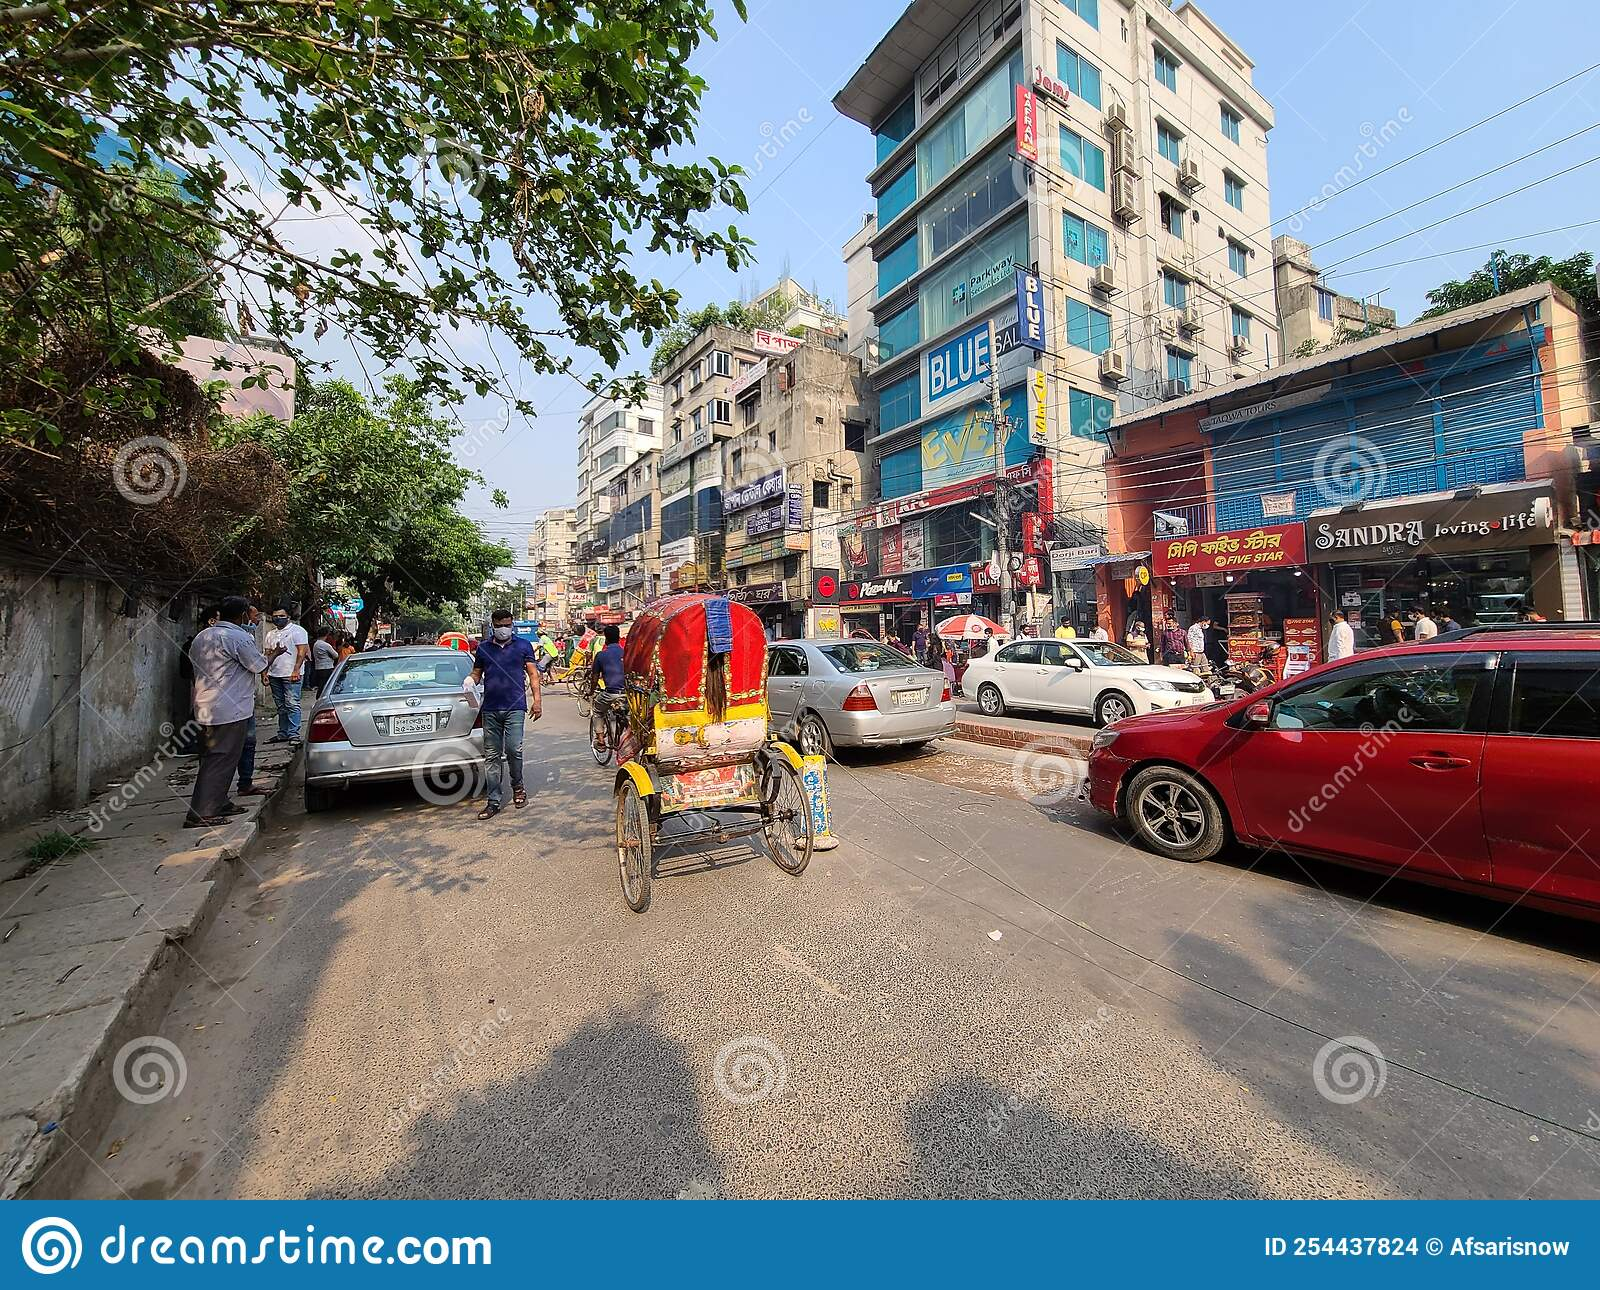5: (578, 588, 822, 906)
car: (1082, 627, 1600, 925), (304, 644, 518, 810), (764, 637, 967, 763), (961, 632, 1209, 717)
